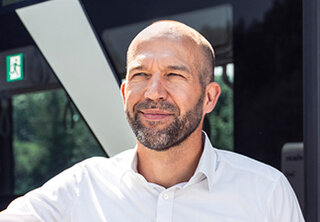Without Helmet: (119, 16, 225, 155)
